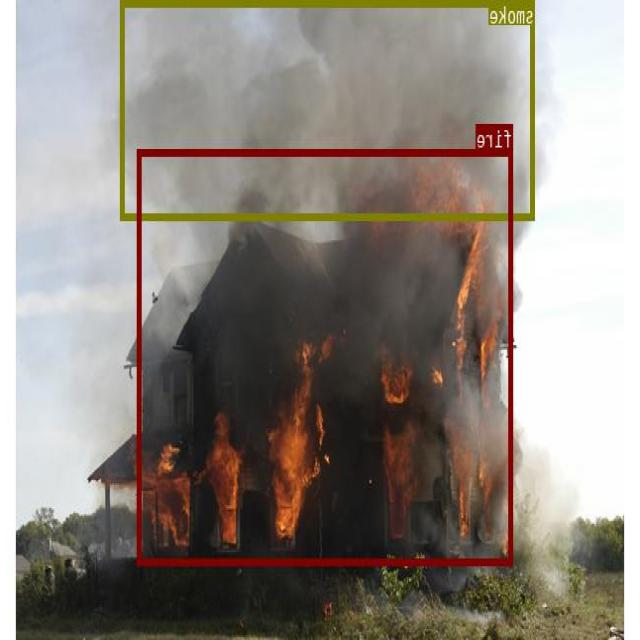fire: (138, 149, 514, 564)
smoke: (122, 0, 536, 218)
